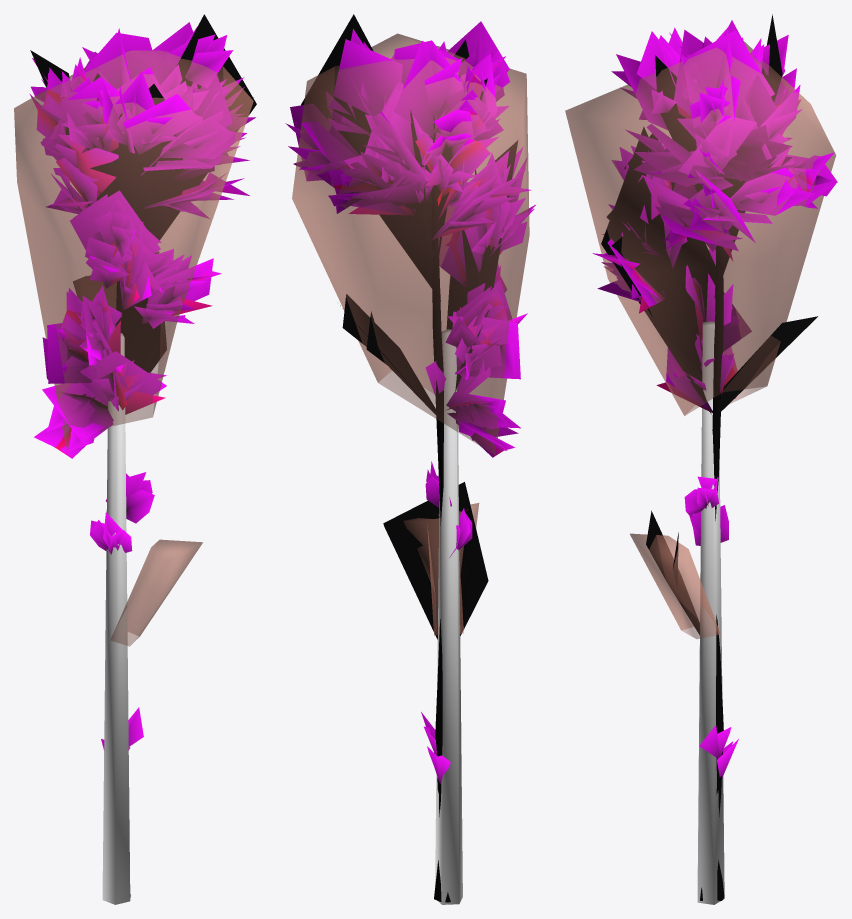
File: tree_aspen_forest_b.dae
The picture shows the model from 3 angles, left to right: view 1: azimuth 30°, elevation 25°; view 2: azimuth 150°, elevation 25°; view 3: azimuth 270°, elevation 25°; orthographic projection. The views are drawn at different scales.
Visible parts, largest first — view 1: Colmesh_forest02-1, Birch_forest_02_a400, Birch_forest_02_a800; view 2: Colmesh_forest02-1, Birch_forest_02_a400, Birch_forest_02_a800; view 3: Colmesh_forest02-1, Birch_forest_02_a400, Birch_forest_02_a800.
Boxes of the visible parts, x1=… form: Colmesh_forest02-1: x1=14, y1=50, x2=253, y2=904; Birch_forest_02_a400: x1=29, y1=15, x2=256, y2=750; Birch_forest_02_a800: x1=32, y1=14, x2=255, y2=897; Colmesh_forest02-1: x1=292, y1=33, x2=529, y2=904; Birch_forest_02_a400: x1=285, y1=14, x2=535, y2=902; Birch_forest_02_a800: x1=288, y1=15, x2=531, y2=901; Colmesh_forest02-1: x1=565, y1=41, x2=836, y2=904; Birch_forest_02_a400: x1=597, y1=14, x2=837, y2=504; Birch_forest_02_a800: x1=592, y1=32, x2=835, y2=900.
Bounding box in the file's own units: 5.28 × 5.2 × 18.44.
